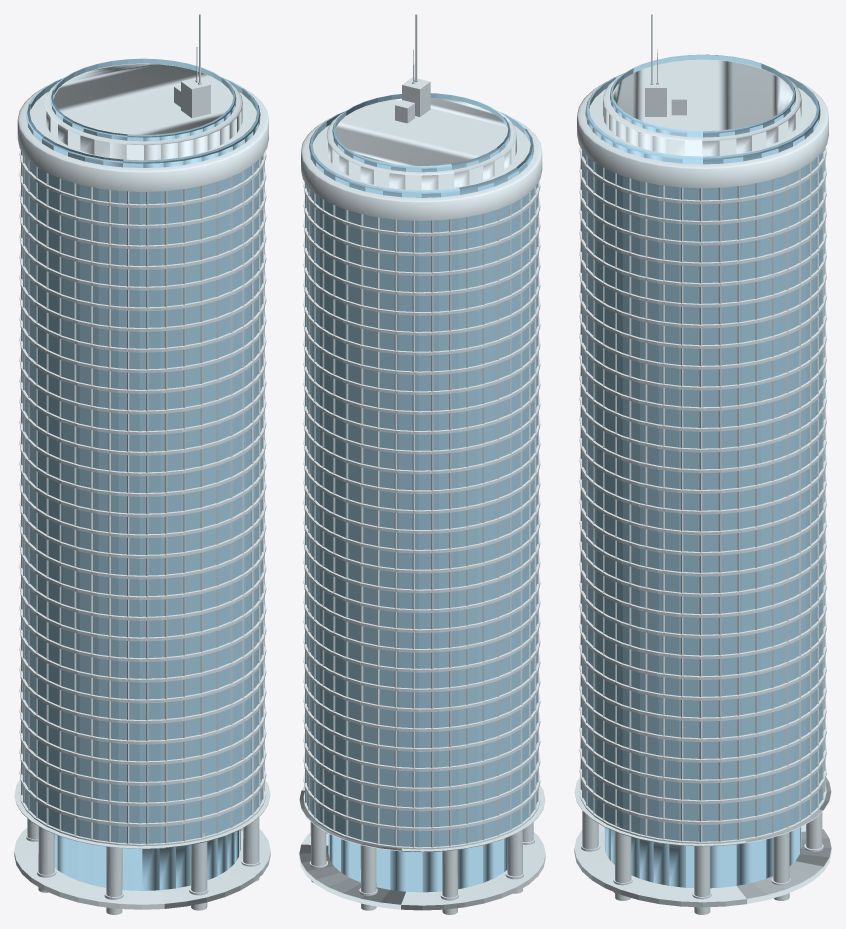
The model's file is building2.glb.
3 renders of one model, left to right at view 1: azimuth 30°, elevation 25°; view 2: azimuth 150°, elevation 25°; view 3: azimuth 270°, elevation 25°, orthographic. The views are drawn at different scales.
Parts seen in each view (by area): view 1: Roof_5, Base_building, Roof_4, Glass_14, Glass_3, Glass_22, Glass_11, Glass_17, Glass_19, Glass_30, Glass_13, Glass_6 (+83 smaller); view 2: Roof_5, Base_building, Roof_4, Glass_16, Glass_4, Glass_25, Glass_14, Glass_27, Glass_11, Glass_20, Glass_26, Glass_3 (+83 smaller); view 3: Roof_5, Base_building, Roof_4, Glass_20, Glass_4, Glass_23, Glass_26, Glass_7, Glass_17, Glass_10, Glass_27, Glass (+84 smaller).
Part boxes in pixels (x1,y1,x2,y2): Roof_5: (44, 63, 242, 160); Base_building: (14, 827, 270, 909); Roof_4: (17, 85, 268, 191); Glass_14: (22, 518, 262, 575); Glass_3: (22, 745, 262, 802); Glass_22: (22, 353, 262, 410); Glass_11: (22, 580, 262, 637); Glass_17: (22, 456, 262, 513); Glass_19: (22, 415, 262, 472); Glass_30: (22, 188, 262, 245); Glass_13: (22, 538, 262, 596); Glass_6: (22, 683, 262, 740); Roof_5: (326, 98, 516, 190); Base_building: (299, 832, 545, 910); Roof_4: (301, 118, 542, 220); Glass_16: (306, 495, 537, 549); Glass_4: (306, 733, 537, 787); Glass_25: (306, 317, 537, 371); Glass_14: (306, 535, 537, 589); Glass_27: (306, 277, 537, 331); Glass_11: (306, 594, 537, 648); Glass_20: (306, 416, 537, 470); Glass_26: (306, 297, 537, 351); Glass_3: (306, 753, 537, 807); Roof_5: (603, 59, 801, 156); Base_building: (574, 824, 831, 907); Roof_4: (577, 81, 828, 188); Glass_20: (583, 390, 824, 448); Glass_4: (583, 721, 824, 779); Glass_23: (583, 328, 824, 386); Glass_26: (583, 266, 824, 324); Glass_7: (583, 659, 824, 717); Glass_17: (583, 452, 824, 510); Glass_10: (583, 597, 824, 655); Glass_27: (583, 246, 824, 303); Glass: (583, 783, 824, 841).
Size of the model in its own units: 4.98 by 18.49 by 4.98.
